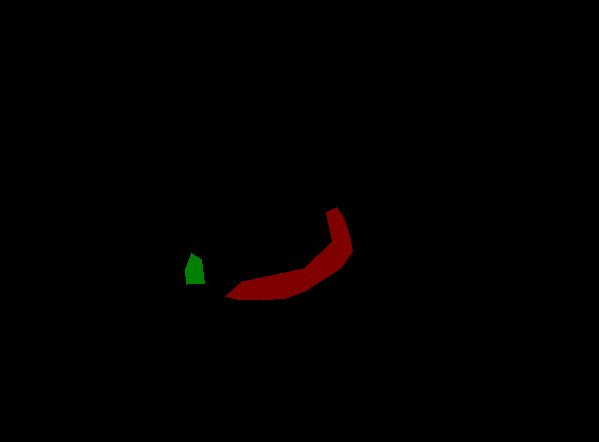fire: (225, 207, 352, 300), (185, 253, 204, 284)
